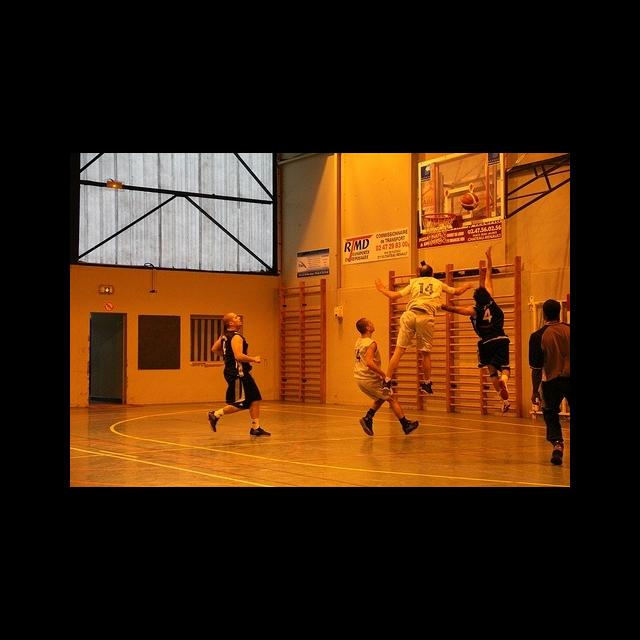basketball: (461, 193, 479, 210)
hoop: (422, 213, 457, 246)
